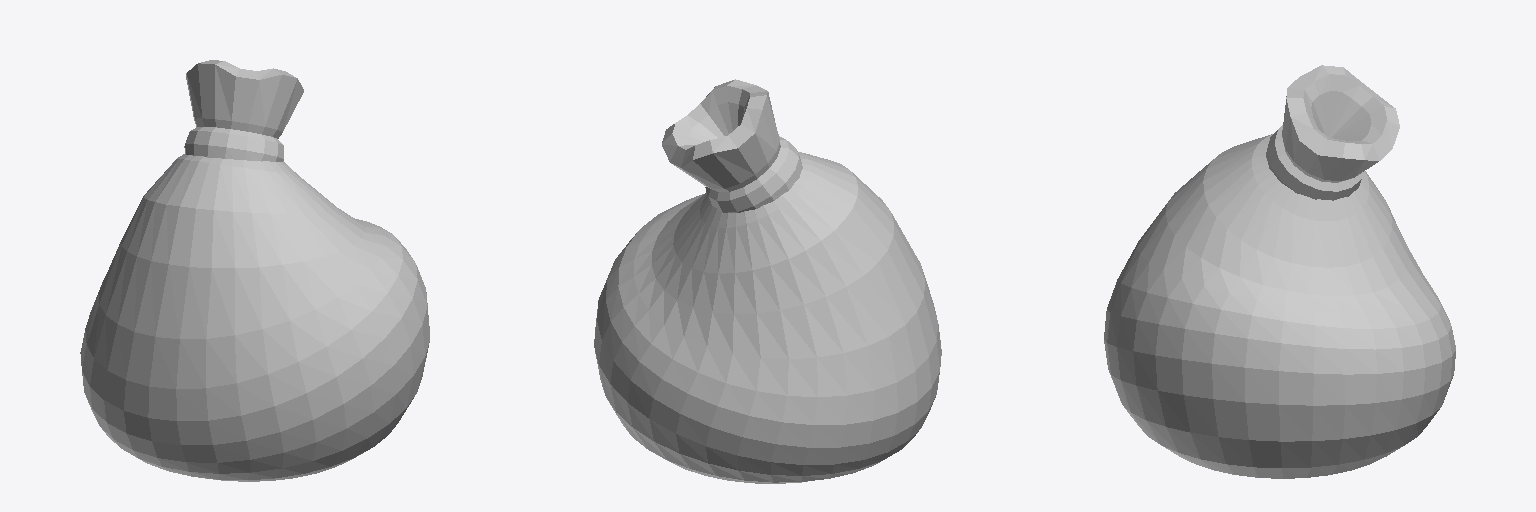
The model's file is lootSackA.obj.
3 views of the same model, side by side, from view 1: azimuth 30°, elevation 25°; view 2: azimuth 150°, elevation 25°; view 3: azimuth 270°, elevation 25° (orthographic).
Visible parts, largest first — view 1: lootSackA_Sphere.007; view 2: lootSackA_Sphere.007; view 3: lootSackA_Sphere.007.
Part boxes in pixels (x1,y1,x2,y2): lootSackA_Sphere.007: (80,60,429,481); lootSackA_Sphere.007: (594,79,941,483); lootSackA_Sphere.007: (1104,65,1455,478).
Size of the model in its own units: 0.986 by 1.13 by 0.9975.